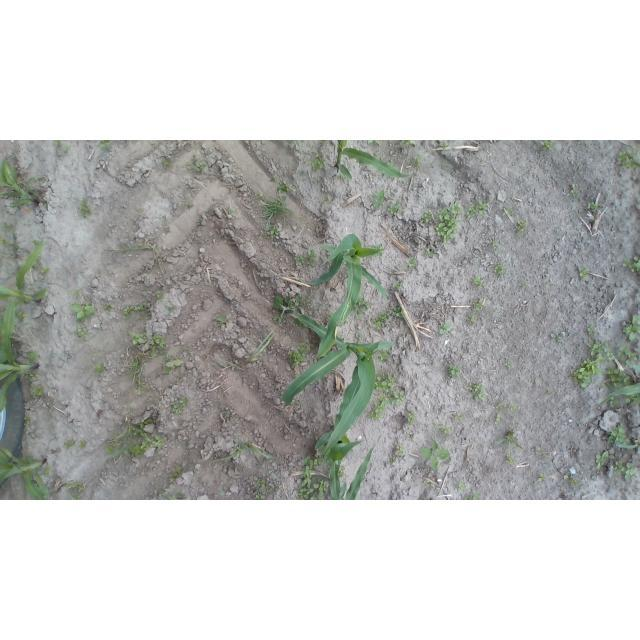Maize: (282, 308, 395, 463), (297, 228, 389, 361), (0, 236, 54, 364), (1, 293, 48, 420), (315, 438, 380, 500), (328, 141, 415, 186), (0, 449, 52, 500), (1, 155, 46, 209), (599, 379, 640, 408)
Weeds: (569, 341, 640, 410), (212, 330, 276, 375), (104, 419, 165, 463), (104, 240, 168, 277), (370, 371, 411, 422), (210, 436, 281, 464), (298, 455, 330, 500), (593, 451, 638, 483), (255, 191, 297, 225), (435, 200, 463, 248), (419, 438, 453, 471), (127, 355, 153, 398), (493, 430, 523, 467), (273, 293, 304, 323), (611, 144, 640, 174), (251, 475, 284, 500), (288, 338, 313, 370), (607, 425, 640, 449), (66, 300, 98, 323), (0, 222, 20, 253), (58, 479, 87, 500), (123, 298, 150, 320), (293, 248, 319, 269), (620, 315, 640, 342), (462, 201, 490, 220), (467, 380, 488, 405), (617, 253, 640, 275), (165, 464, 187, 487), (185, 156, 209, 175), (74, 197, 94, 218), (274, 180, 296, 199), (388, 443, 406, 466), (373, 311, 390, 334), (150, 333, 165, 358), (370, 188, 387, 210), (169, 397, 188, 416), (355, 299, 373, 319), (433, 421, 454, 438), (131, 329, 148, 349), (549, 331, 567, 349), (213, 313, 231, 331), (562, 473, 581, 490), (32, 382, 48, 402), (436, 320, 454, 337), (161, 359, 184, 372), (446, 364, 463, 381), (265, 224, 283, 240), (153, 291, 172, 306), (158, 490, 186, 500), (311, 149, 325, 169), (492, 260, 509, 276), (74, 326, 90, 343), (388, 305, 406, 320), (388, 197, 401, 217), (95, 141, 115, 154), (567, 184, 582, 201), (102, 296, 114, 316), (421, 210, 436, 226), (53, 140, 70, 154), (377, 350, 395, 363), (163, 305, 181, 318), (160, 214, 170, 237), (495, 402, 520, 411), (424, 246, 439, 261), (408, 155, 424, 169), (159, 156, 175, 170), (534, 445, 549, 459), (93, 363, 108, 377), (535, 473, 551, 486), (540, 141, 556, 154), (391, 279, 408, 291), (514, 220, 526, 237), (587, 202, 602, 215), (68, 286, 83, 299), (74, 438, 87, 452), (61, 438, 75, 451), (578, 267, 590, 282), (541, 276, 552, 292), (290, 180, 301, 196), (489, 238, 502, 251), (404, 255, 416, 269), (25, 371, 39, 383), (465, 491, 483, 500), (454, 479, 467, 491), (493, 412, 506, 424), (471, 302, 485, 313), (361, 141, 383, 148), (435, 140, 451, 149), (407, 412, 418, 425), (453, 412, 466, 423), (503, 359, 516, 370), (472, 276, 485, 287), (182, 201, 195, 212), (353, 330, 364, 342), (466, 313, 478, 324), (502, 204, 513, 216), (400, 141, 418, 148), (39, 263, 49, 275), (518, 281, 531, 290), (42, 466, 55, 475), (271, 380, 282, 390), (224, 203, 234, 214), (338, 468, 347, 480), (189, 469, 201, 478), (224, 409, 233, 421), (588, 323, 596, 336), (22, 416, 30, 429), (542, 386, 552, 396), (532, 377, 542, 387), (296, 399, 305, 410), (372, 244, 384, 251), (332, 173, 344, 180), (407, 433, 415, 443), (197, 215, 208, 222), (218, 489, 229, 496), (422, 480, 430, 489), (320, 194, 329, 202)
